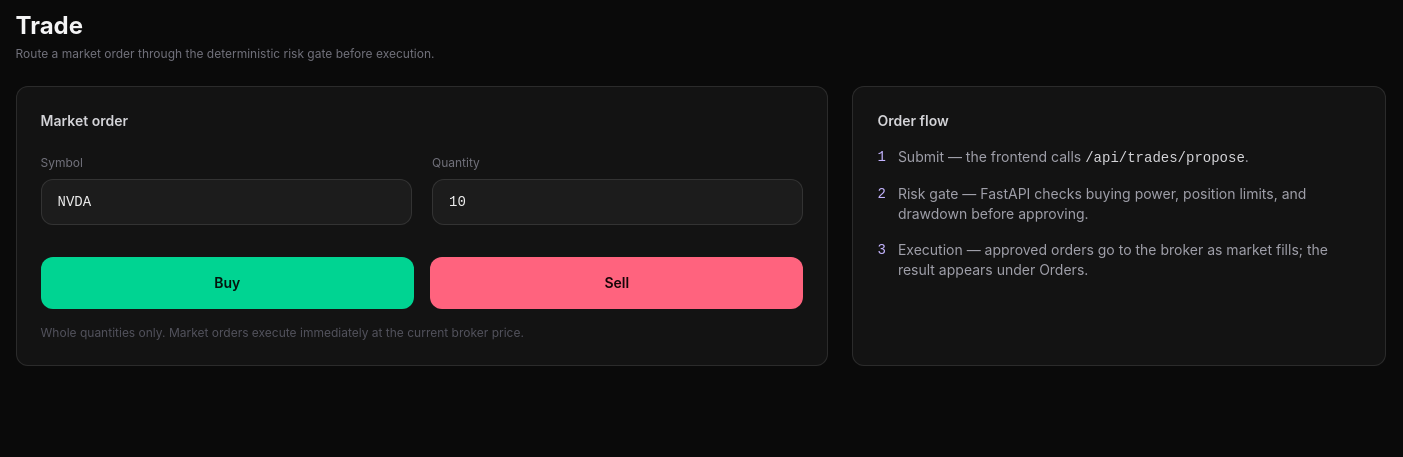
Trade page › sends a sell order on Sell and settles back to approved
The width and height of the screenshot is (1403, 457).
Click the button "Sell": (617, 282) [430,256,804,308]
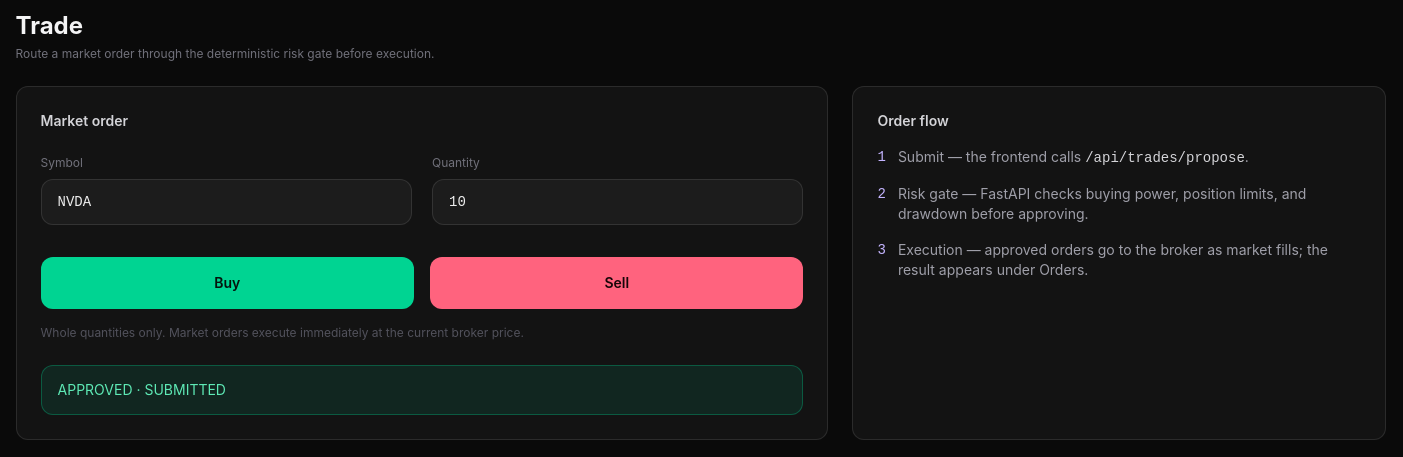
Expected: the text "APPROVED · SUBMITTED" is shown, [40,364,803,414]
